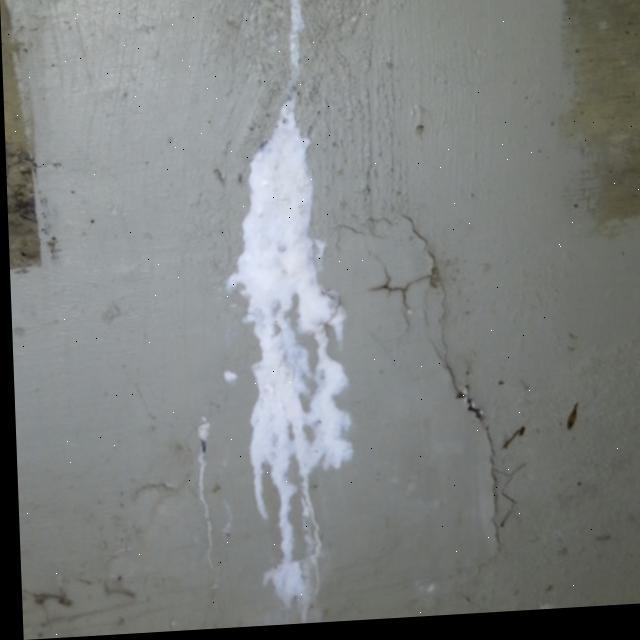D01: (226, 98, 353, 610)
